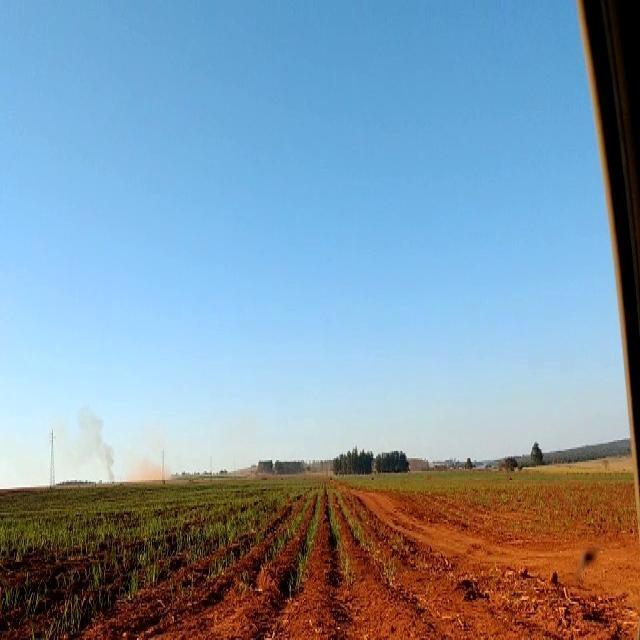Smoke: (90, 416, 116, 480)
